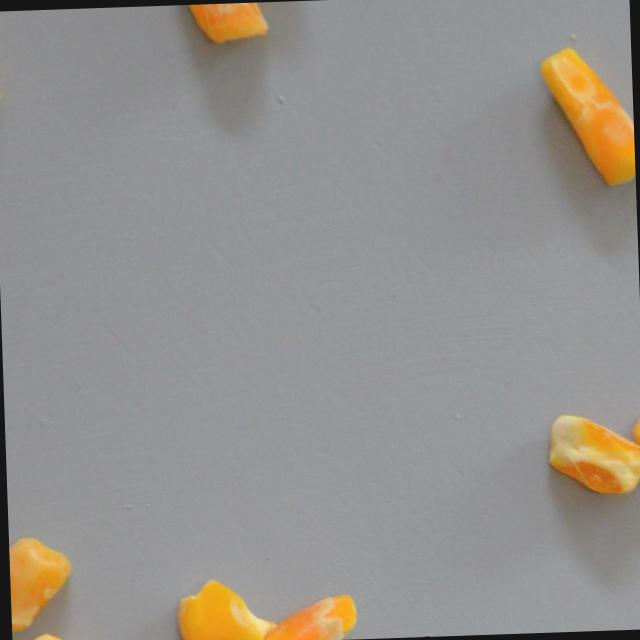dañado: (535, 43, 636, 196), (541, 408, 640, 499), (7, 531, 78, 637), (173, 576, 278, 640), (256, 589, 362, 640), (173, 1, 276, 50), (11, 629, 115, 640), (0, 28, 7, 117)
